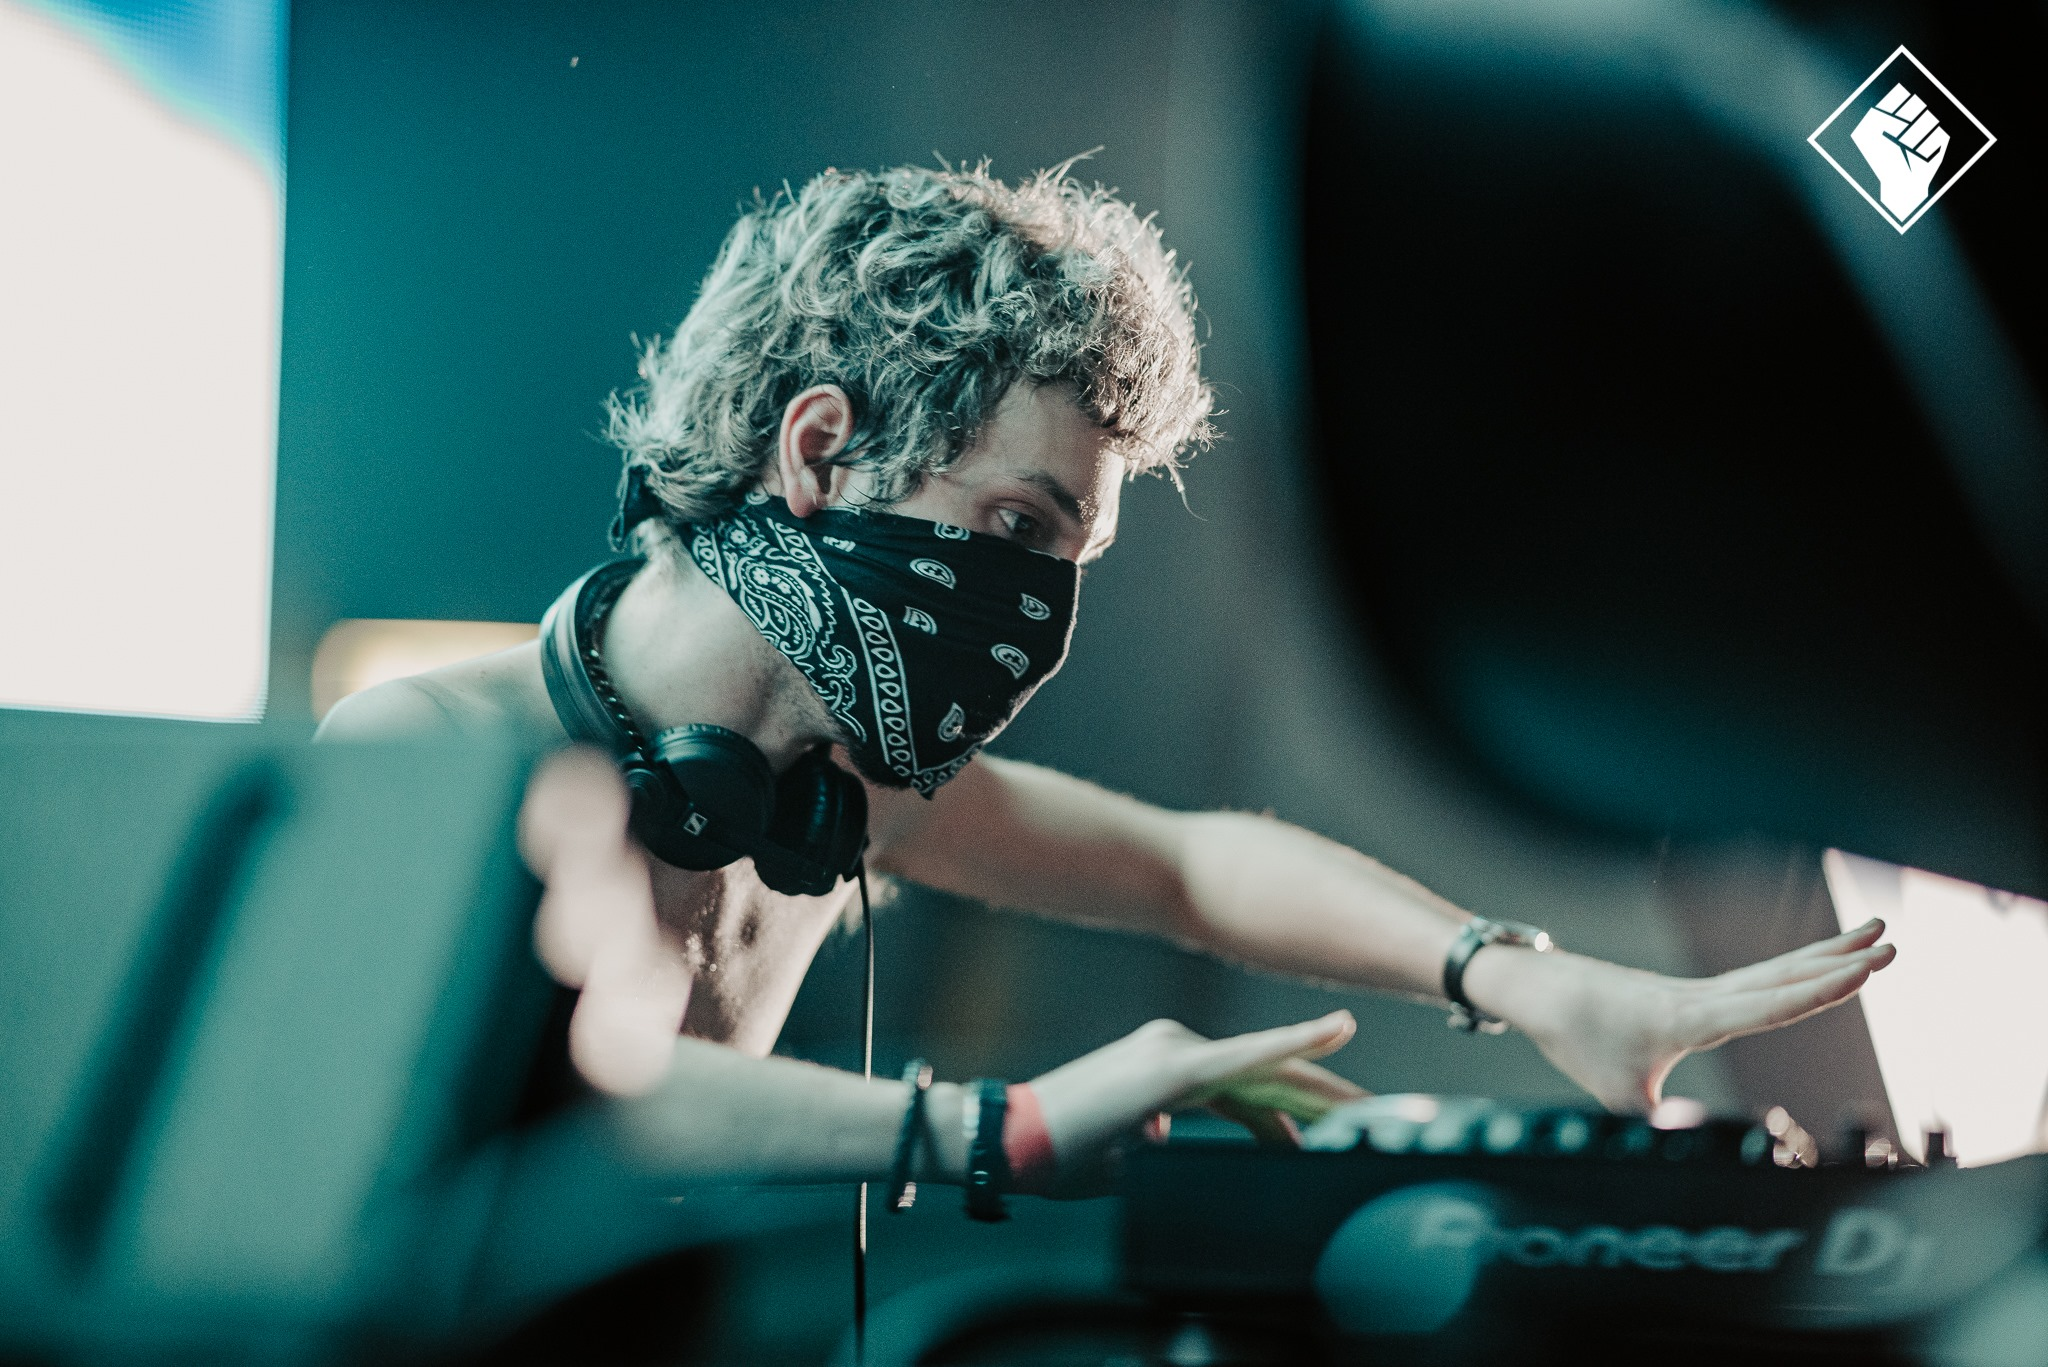with_mask: (884, 349, 1101, 739)
